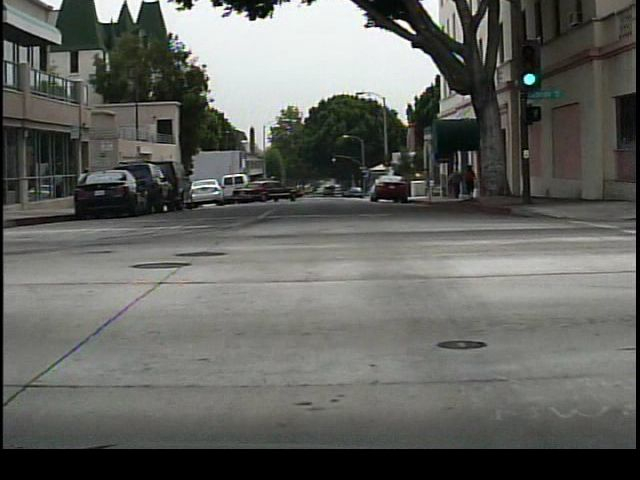person: (77, 159, 103, 192), (446, 169, 466, 204), (463, 160, 480, 201)
